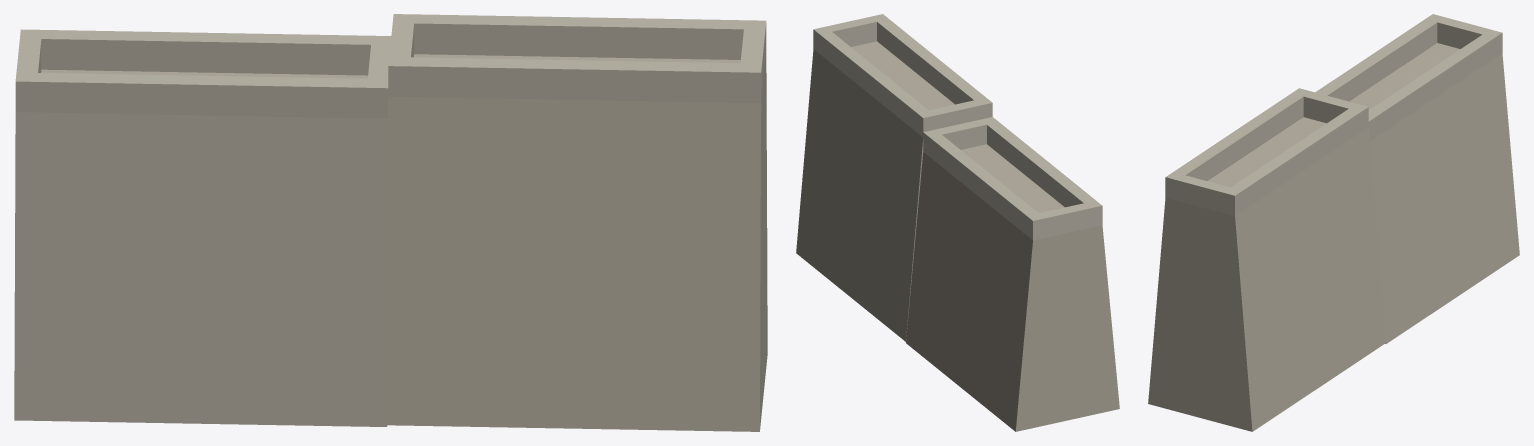
File: kalkara_63_20_collision.glb
The picture shows the model from 3 angles, left to right: view 1: azimuth 30°, elevation 25°; view 2: azimuth 150°, elevation 25°; view 3: azimuth 270°, elevation 25°; orthographic projection. The views are drawn at different scales.
Visible parts, largest first — view 1: geometry_0; view 2: geometry_0; view 3: geometry_0.
Boxes of the visible parts, x1=… form: geometry_0: x1=14, y1=14, x2=767, y2=431; geometry_0: x1=796, y1=14, x2=1119, y2=431; geometry_0: x1=1148, y1=14, x2=1519, y2=431.
Size of the model in its own units: 23.65 by 12.46 by 18.04.
